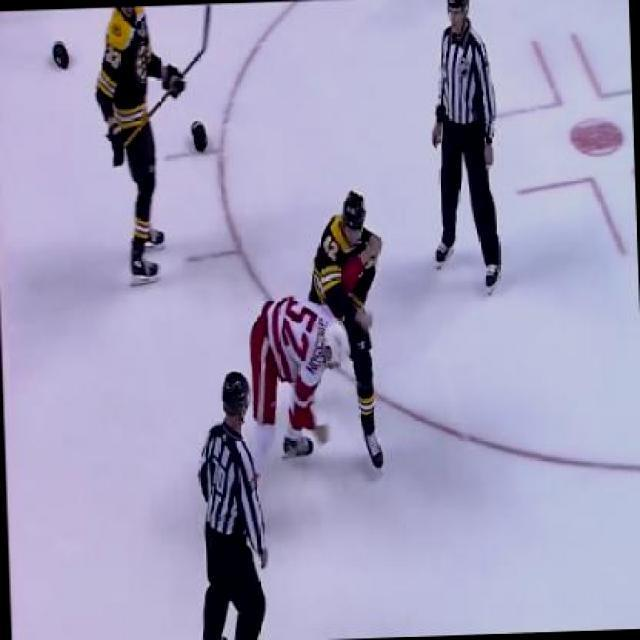fight: (244, 184, 387, 483)
